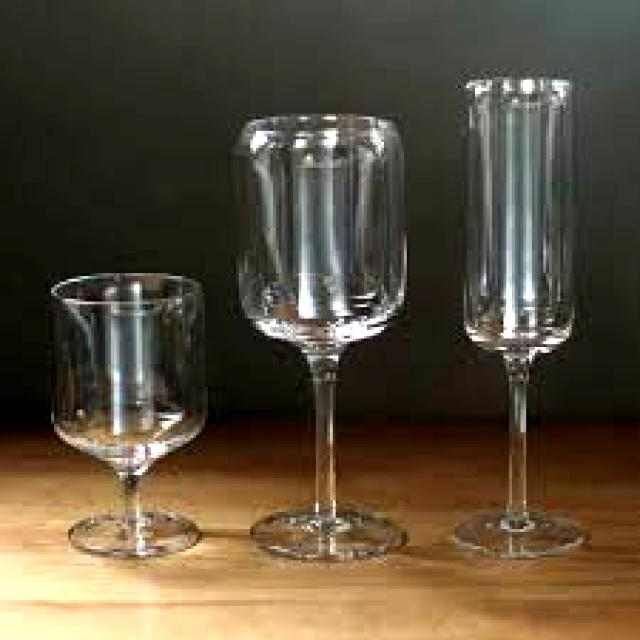Glass: (227, 110, 419, 560), (454, 71, 592, 558), (43, 269, 213, 560)
